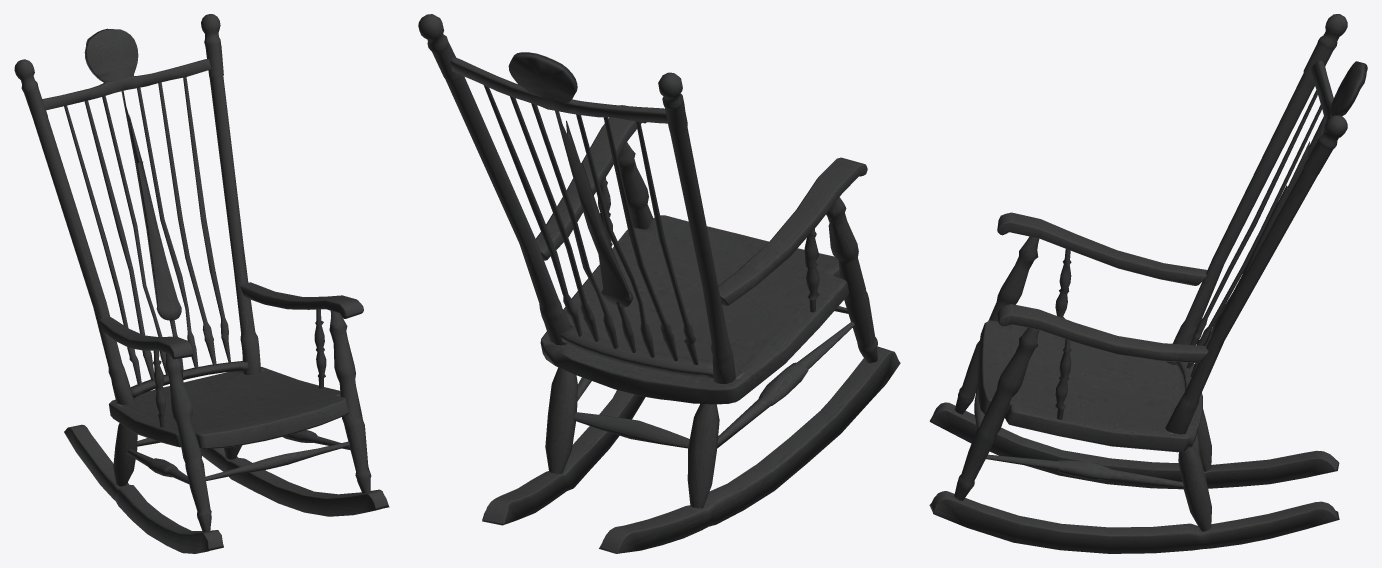
The model's file is rocking_chair.glb.
The picture shows the model from 3 angles, left to right: view 1: azimuth 30°, elevation 25°; view 2: azimuth 150°, elevation 25°; view 3: azimuth 270°, elevation 25°; orthographic projection. The views are drawn at different scales.
Bounding box in the file's own units: 0.4966 × 0.9512 × 0.8354.
Materials: 1 (1 with a texture image).
